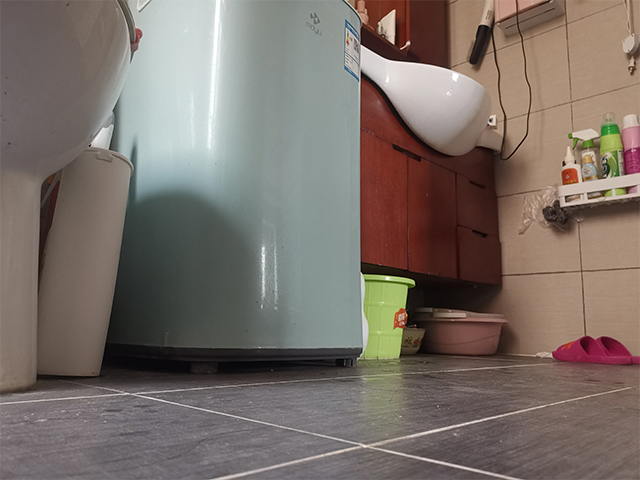slippers: (549, 335, 640, 367)
